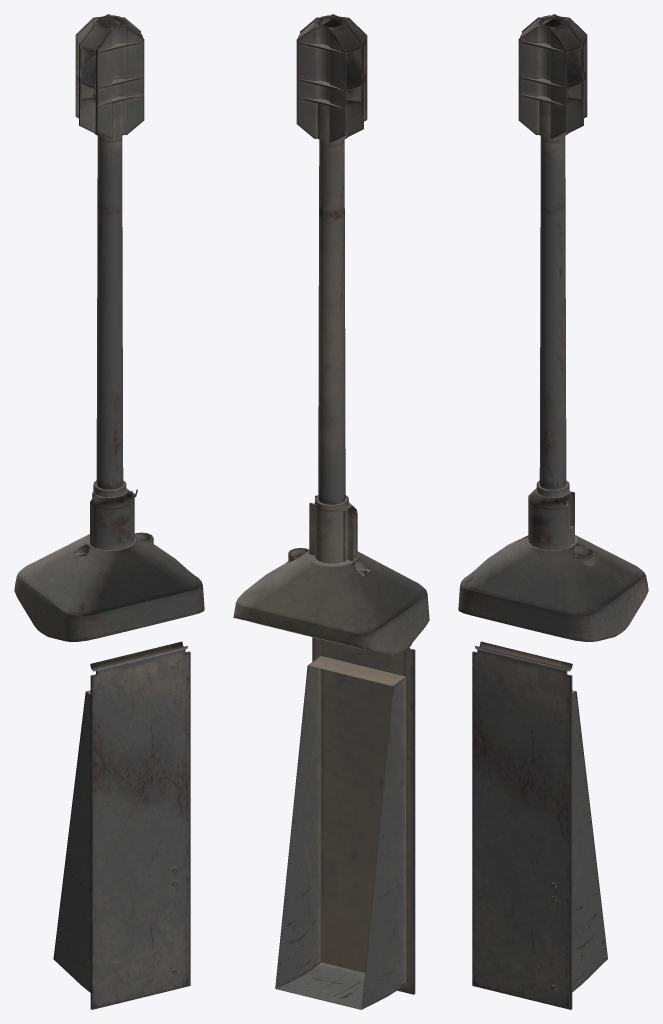
Rendered from Gun_02.glb.
The picture shows the model from 3 angles, left to right: view 1: azimuth 30°, elevation 25°; view 2: azimuth 150°, elevation 25°; view 3: azimuth 330°, elevation 25°; orthographic projection. The views are drawn at different scales.
Visible parts, largest first — view 1: set_0_group_0; view 2: set_0_group_0; view 3: set_0_group_0.
Boxes of the visible parts, box(x1,y1,x2,y2) form: set_0_group_0: box(14, 14, 204, 1009); set_0_group_0: box(233, 14, 429, 1009); set_0_group_0: box(458, 14, 648, 1009).
Size of the model in its own units: 0.6675 by 4.41 by 0.576.
1 material, 1 textured.
